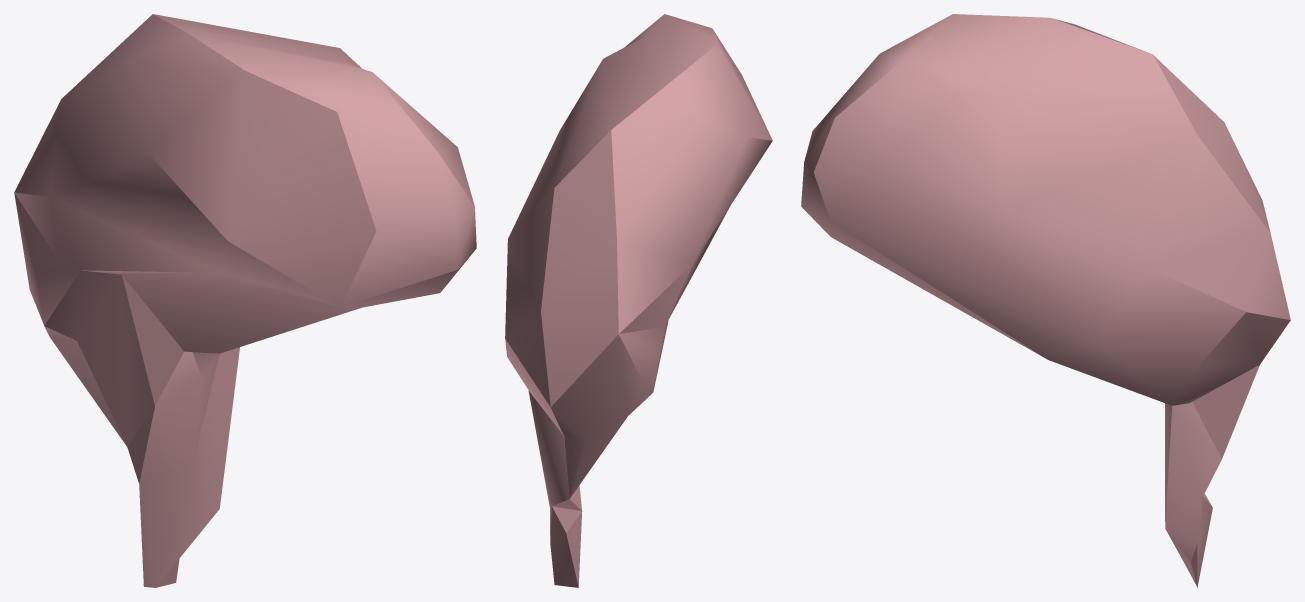
File: fma18256.glb
3 views of the same model, side by side, from view 1: azimuth 30°, elevation 25°; view 2: azimuth 150°, elevation 25°; view 3: azimuth 270°, elevation 25° (orthographic). The views are drawn at different scales.
Parts seen in each view (by area): view 1: FMA18256; view 2: FMA18256; view 3: FMA18256.
Part boxes in pixels (x1,y1,x2,y2): FMA18256: (14, 14, 476, 587); FMA18256: (505, 14, 772, 587); FMA18256: (801, 14, 1290, 587).
Bounding box in the file's own units: 0.0108 × 0.0245 × 0.02.
